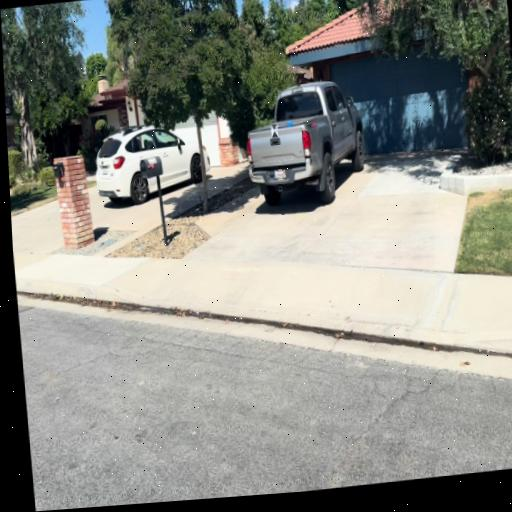target1: (270, 124, 278, 137)
